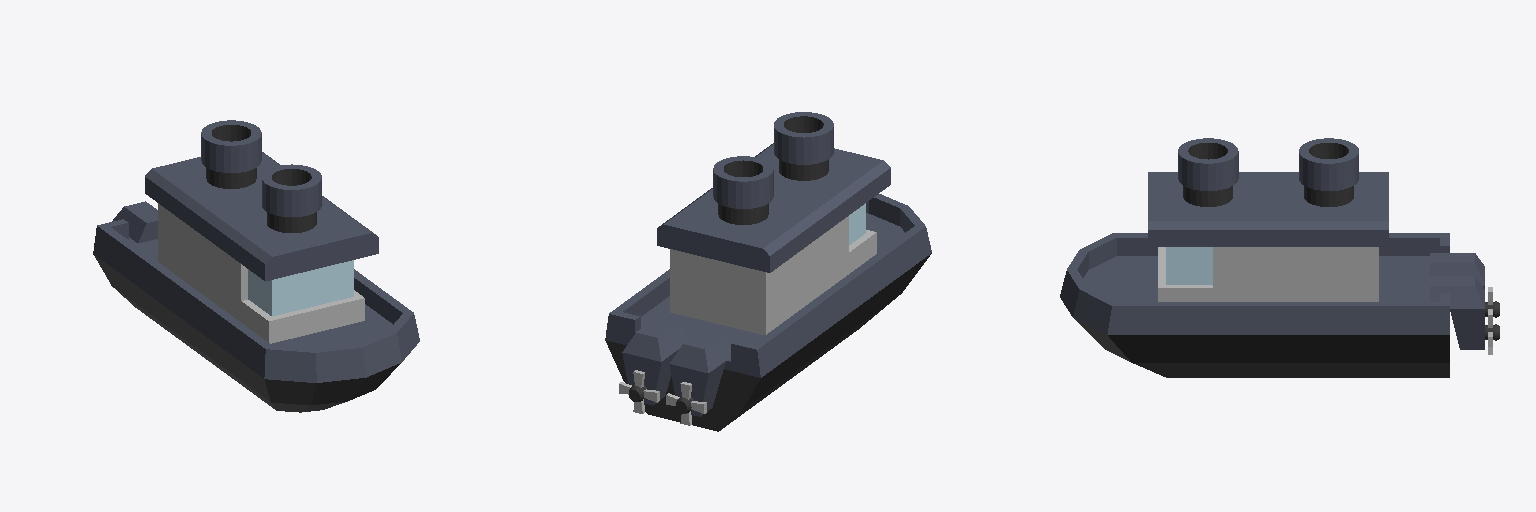
File: watercraftPack_024.obj
The picture shows the model from 3 angles: view 1: azimuth 30°, elevation 25°; view 2: azimuth 150°, elevation 25°; view 3: azimuth 270°, elevation 25°; orthographic projection.
Parts seen in each view (by area): view 1: Mesh5 Group1 Model, Mesh1 Group2 Group1 Model; view 2: Mesh5 Group1 Model, Mesh1 Group2 Group1 Model, Mesh4 Group5 Group1 Model, Mesh3 Group4 Group1 Model, Mesh2 Group3 Group1 Model; view 3: Mesh5 Group1 Model, Mesh4 Group5 Group1 Model, Mesh1 Group2 Group1 Model.
Boxes of the visible parts, x1,y1,x2,y2 form: Mesh5 Group1 Model: [93, 120, 419, 412]; Mesh1 Group2 Group1 Model: [112, 201, 157, 242]; Mesh5 Group1 Model: [605, 112, 931, 431]; Mesh1 Group2 Group1 Model: [669, 328, 731, 416]; Mesh4 Group5 Group1 Model: [622, 316, 687, 405]; Mesh3 Group4 Group1 Model: [619, 370, 659, 413]; Mesh2 Group3 Group1 Model: [666, 382, 706, 425]; Mesh5 Group1 Model: [1060, 138, 1449, 377]; Mesh4 Group5 Group1 Model: [1430, 276, 1499, 349]; Mesh1 Group2 Group1 Model: [1430, 253, 1499, 317].
Size of the model in its own units: 2.59 by 3.33 by 6.34.